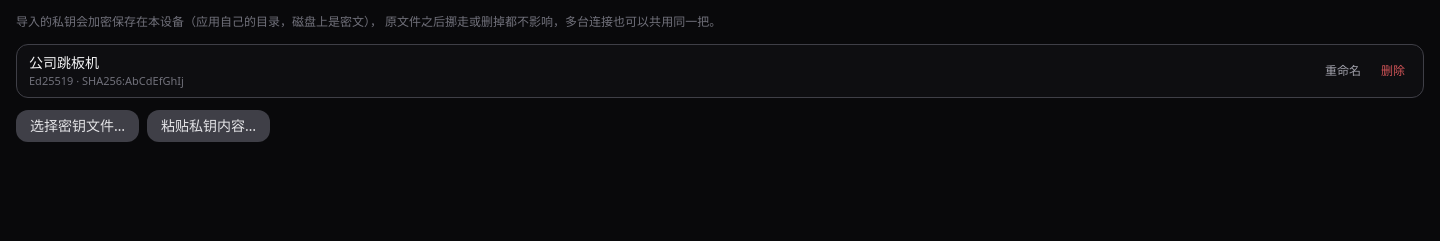
Scenario: 删除与占用提示 › 没人用时就说没人用，不夸大后果
The image size is (1440, 241).
Click the button "删除". click: (1393, 71)
box: [1375,59,1411,83]
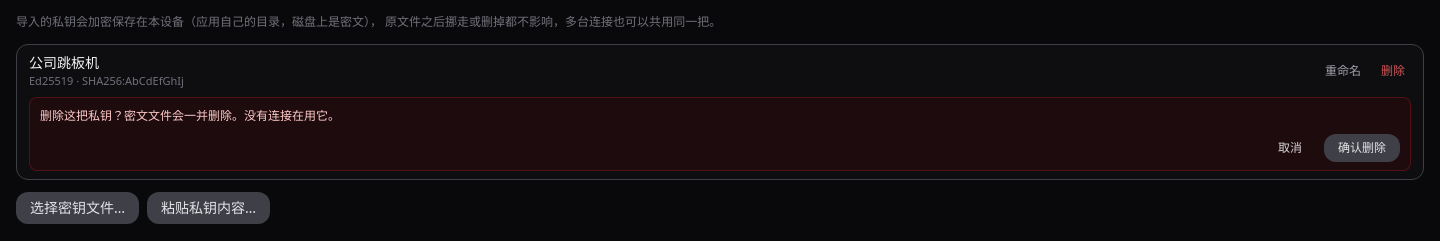
Expected: the text "没有连接在用它" is shown, [244,107,340,124]
